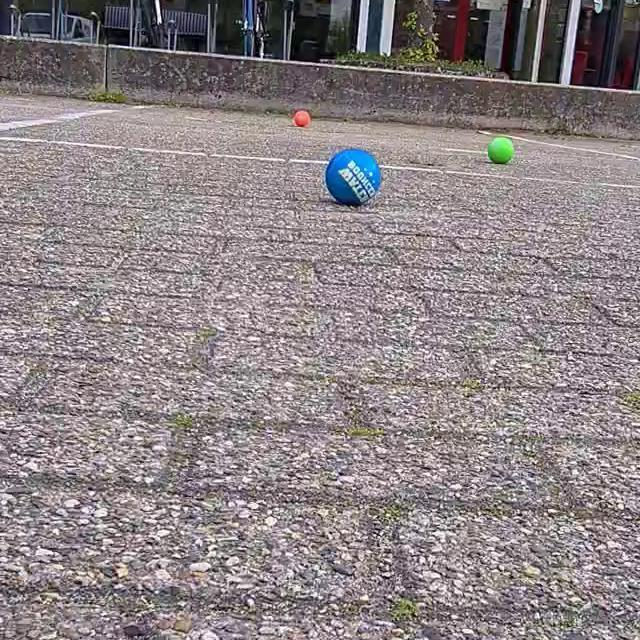ball: (485, 135, 518, 167), (292, 105, 314, 130)
